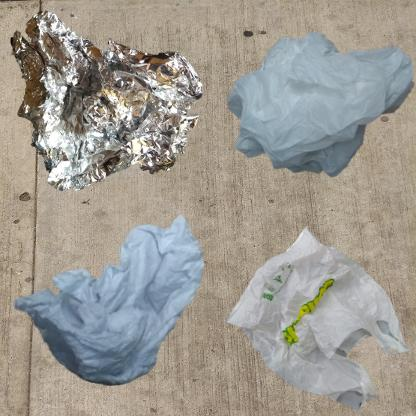aluminio: (10, 10, 203, 192)
bolsa: (213, 213, 416, 416), (213, 10, 416, 209)
papel: (10, 213, 209, 390)
